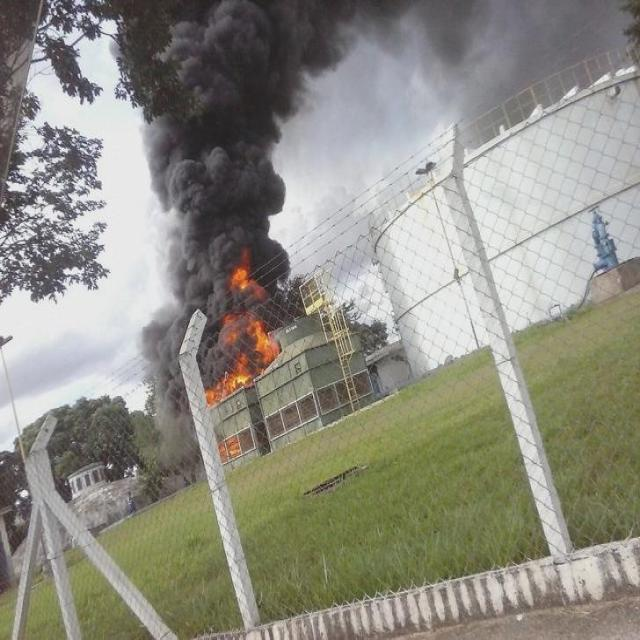Fire: (204, 267, 280, 407)
Smoke: (108, 1, 635, 472)
